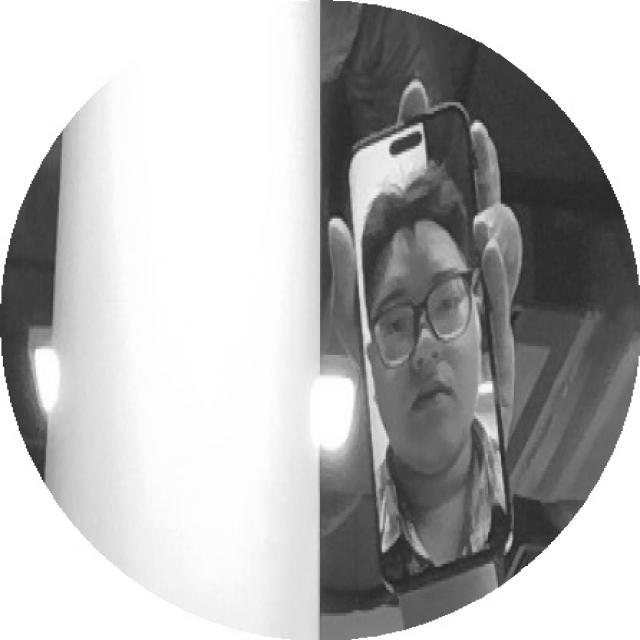fake: (279, 96, 546, 599), (335, 99, 535, 595)
